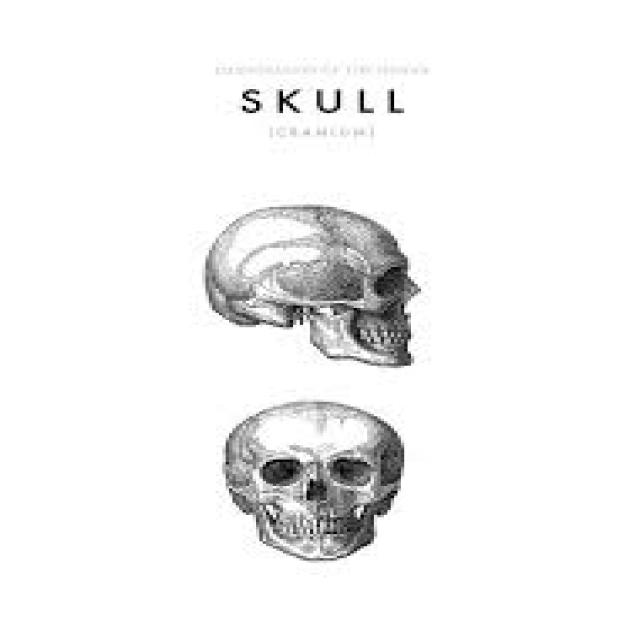skull: (203, 189, 431, 380)
